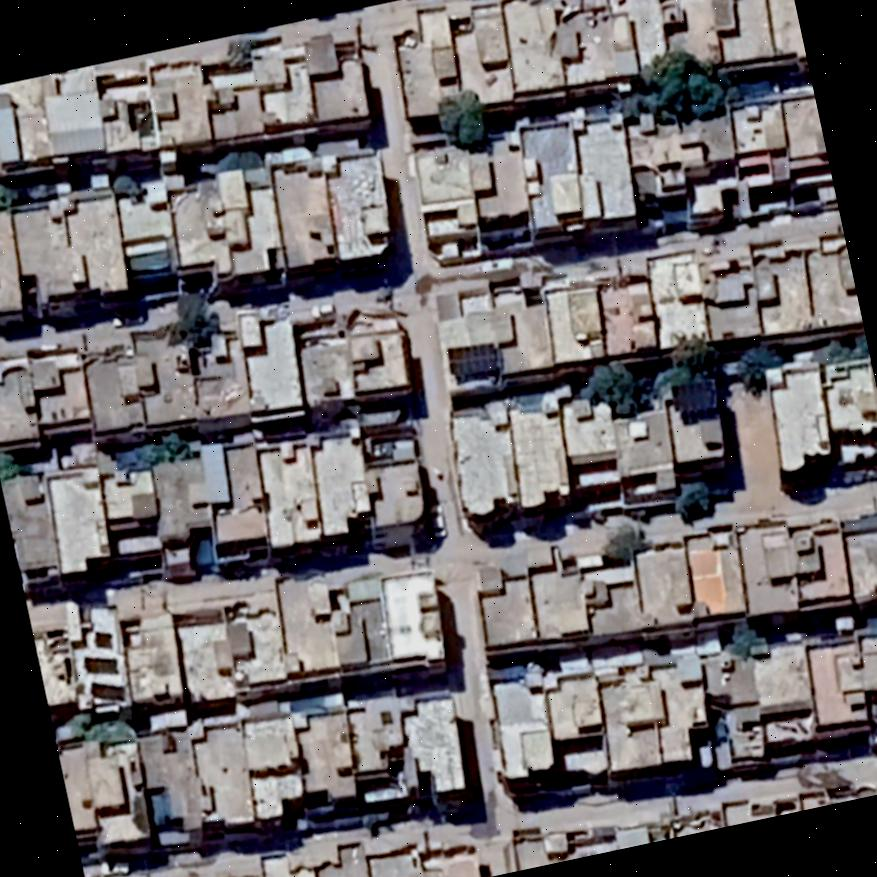Solarpanel: (441, 337, 504, 383), (665, 372, 721, 416), (85, 679, 130, 702), (78, 656, 121, 675), (87, 626, 115, 649)
